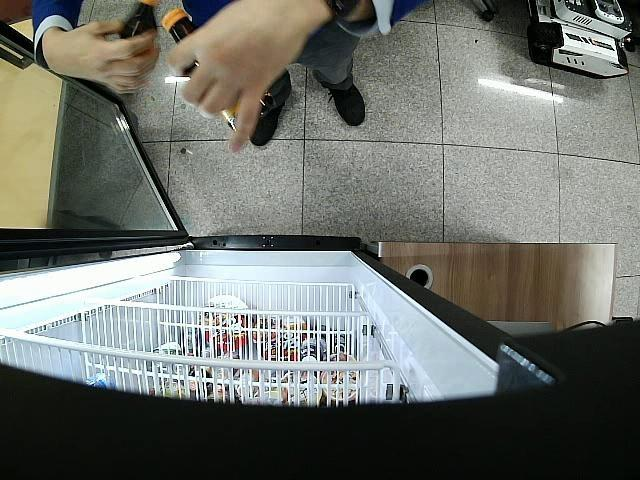17_vita500: (161, 8, 284, 148), (119, 0, 158, 39)
